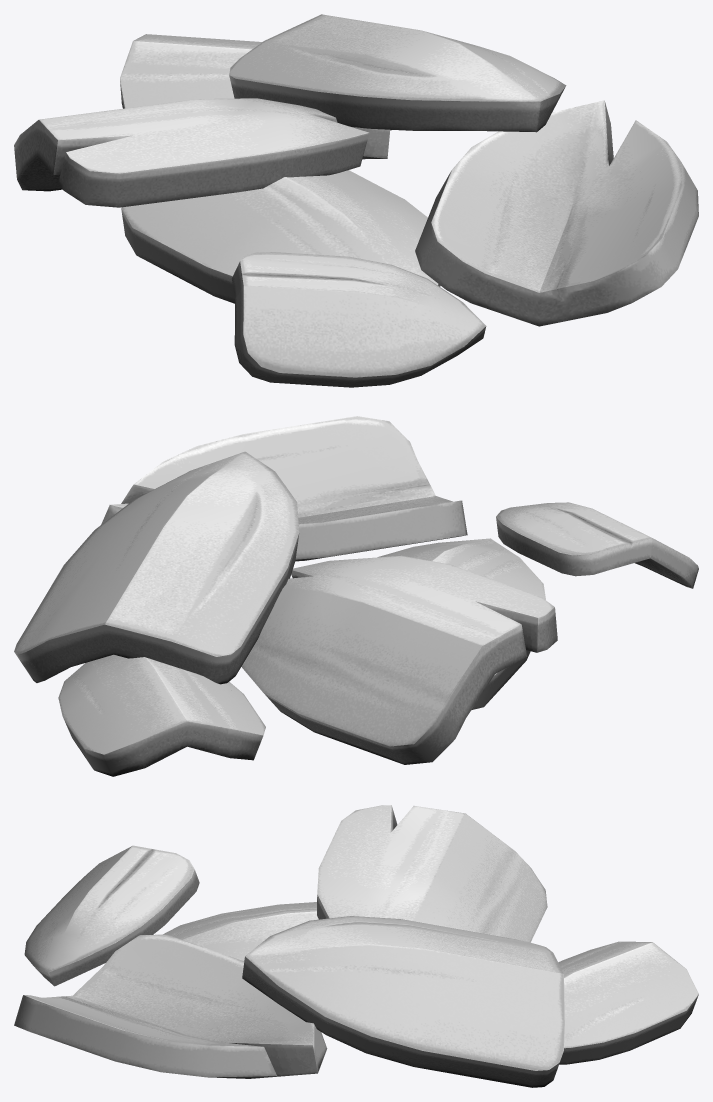
The model's file is 285_dragon_scales.fbx.
The picture shows the model from 3 angles, top to bottom: view 1: azimuth 30°, elevation 25°; view 2: azimuth 150°, elevation 25°; view 3: azimuth 270°, elevation 25°; orthographic projection. The views are drawn at different scales.
Visible parts, largest first — view 1: 285_dragon_scales; view 2: 285_dragon_scales; view 3: 285_dragon_scales.
Boxes of the visible parts, bbox=[...] form: 285_dragon_scales: bbox=[14, 14, 698, 387]; 285_dragon_scales: bbox=[14, 416, 698, 776]; 285_dragon_scales: bbox=[14, 805, 698, 1087].
Bounding box in the file's own units: 19.27 × 4.96 × 25.36.
